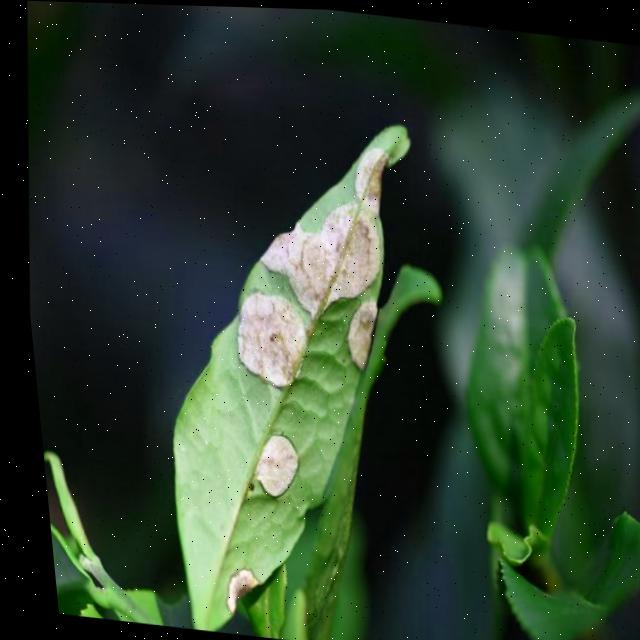Tea cake: (252, 194, 386, 308), (223, 283, 310, 389), (233, 425, 304, 500), (339, 126, 397, 206), (343, 285, 384, 362), (207, 561, 251, 620)
